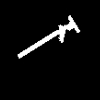double_crochet: (18, 16, 79, 57)
